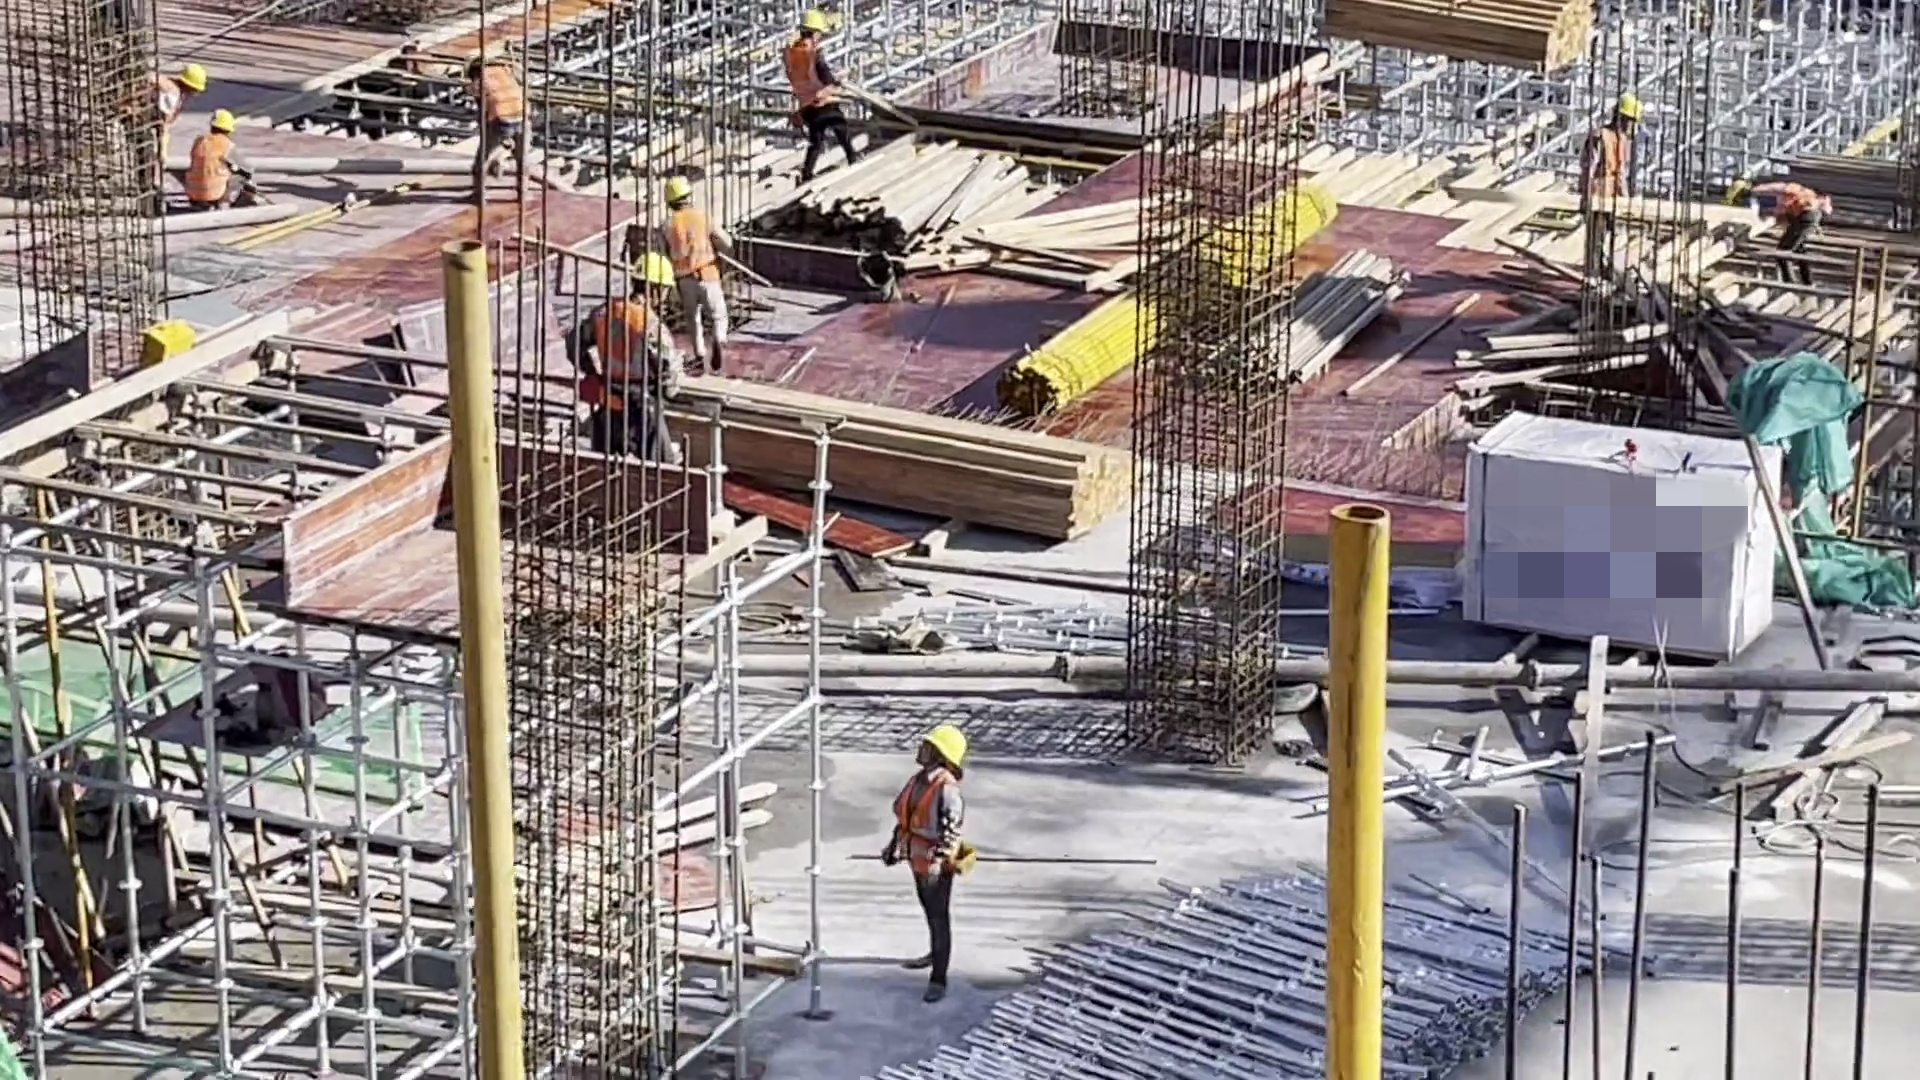helmet: (920, 725, 967, 768), (629, 253, 677, 284), (180, 63, 204, 93), (796, 11, 827, 33), (663, 177, 690, 202), (1615, 95, 1642, 117), (208, 109, 235, 132), (1728, 179, 1745, 204)
person: (888, 726, 970, 1004), (574, 250, 679, 462), (774, 11, 858, 183), (659, 178, 727, 377), (463, 49, 532, 200), (1581, 99, 1639, 276), (1728, 176, 1832, 264), (142, 61, 204, 204), (186, 108, 254, 207)
vest: (594, 297, 655, 407), (894, 779, 954, 884), (673, 210, 720, 291), (1593, 127, 1635, 210), (789, 39, 831, 114), (478, 74, 529, 130), (193, 135, 232, 201), (1769, 181, 1817, 219)
wood: (705, 384, 1139, 539), (790, 156, 1043, 269), (1311, 1, 1593, 66)
